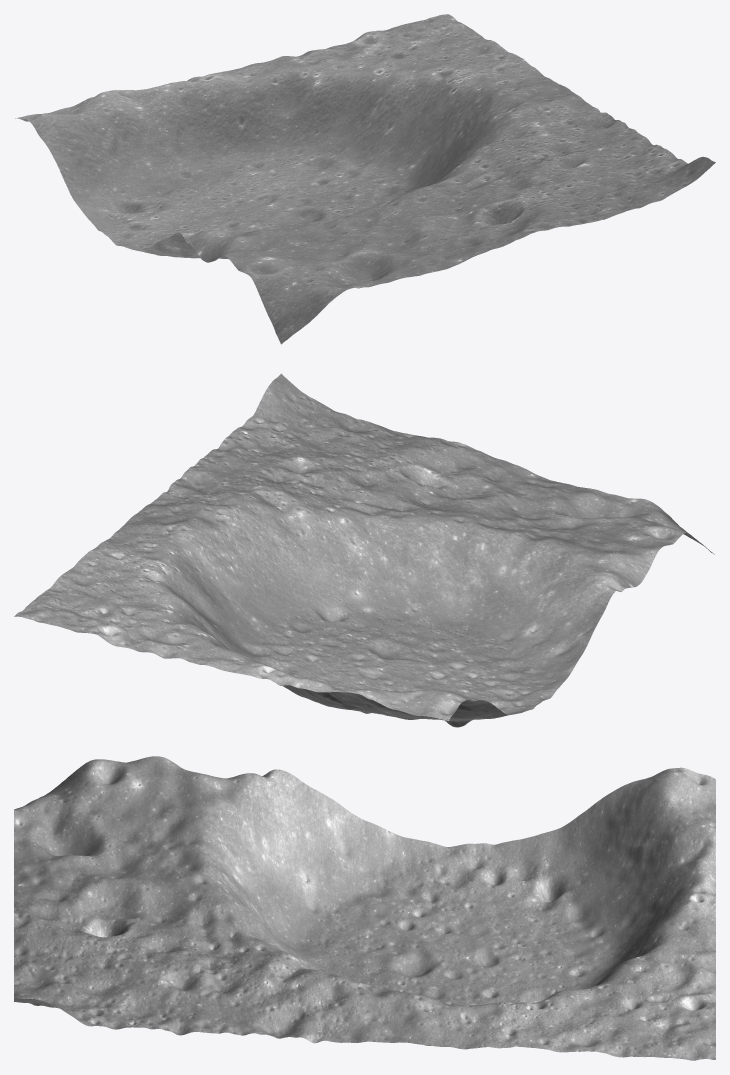
3 renders of one model, top to bottom at view 1: azimuth 30°, elevation 25°; view 2: azimuth 150°, elevation 25°; view 3: azimuth 270°, elevation 25°, orthographic. The views are drawn at different scales.
Visible parts, largest first — view 1: ch2_tmc_ndn_20230103T1301291524_d_dtm_d32; view 2: ch2_tmc_ndn_20230103T1301291524_d_dtm_d32; view 3: ch2_tmc_ndn_20230103T1301291524_d_dtm_d32.
Part boxes in pixels (x1,y1,x2,y2): ch2_tmc_ndn_20230103T1301291524_d_dtm_d32: [15, 14, 715, 344]; ch2_tmc_ndn_20230103T1301291524_d_dtm_d32: [14, 373, 714, 727]; ch2_tmc_ndn_20230103T1301291524_d_dtm_d32: [14, 756, 715, 1060].
Size of the model in its own units: 0.7375 by 0.1812 by 0.785.
1 material, 1 textured.
